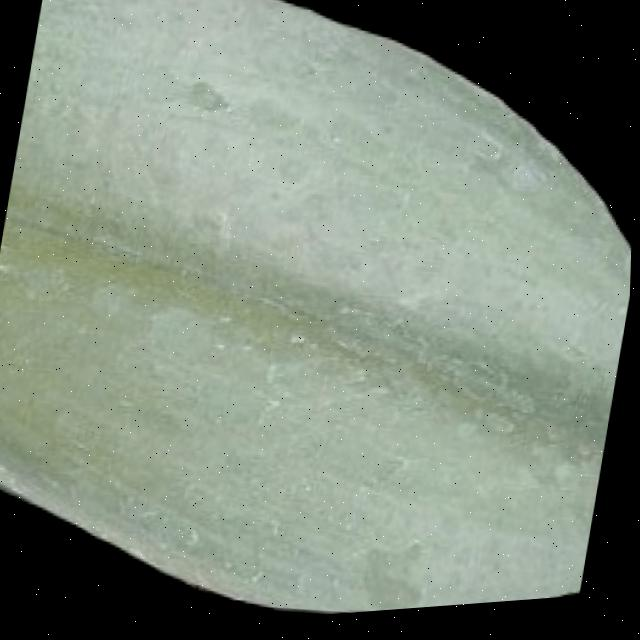mite: (166, 63, 252, 136), (506, 163, 556, 204), (185, 80, 237, 118)
